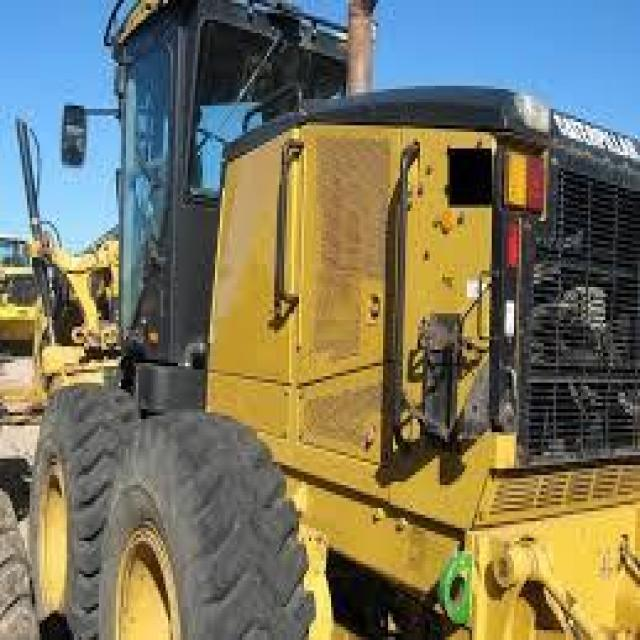Grader: (0, 0, 638, 637)
